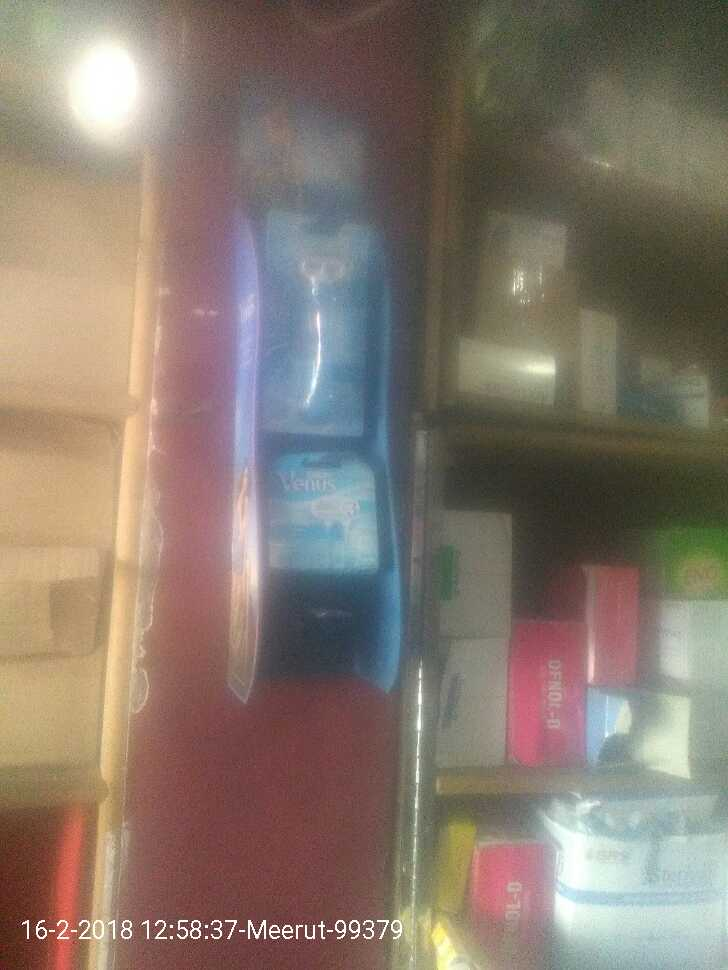venus: (260, 201, 374, 440), (261, 443, 385, 582)
